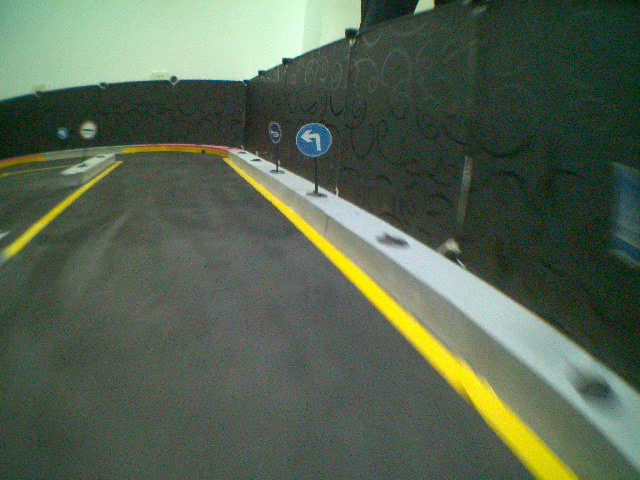Check: (79, 121, 100, 140)
horn: (267, 120, 288, 152)
turn: (297, 122, 336, 161)
